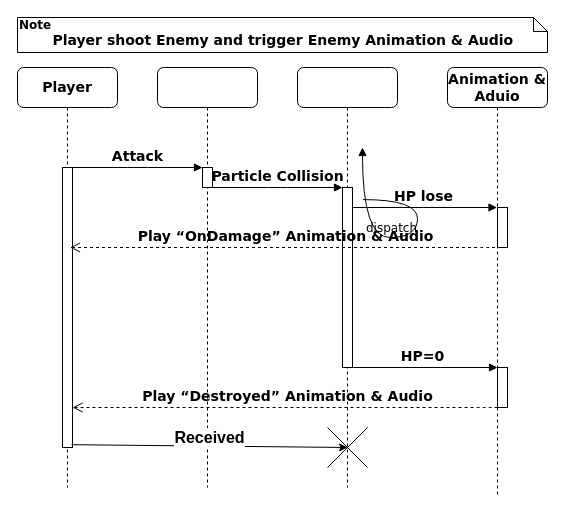
The diagram is 565 pixels wide and 515 high, and some of its shapes have lost their labels. The box of each missing label's shape, as (x1, y1, x2, y2) in pixels:
Enemy: (296, 66, 398, 488)
Weapon: (156, 66, 258, 488)
